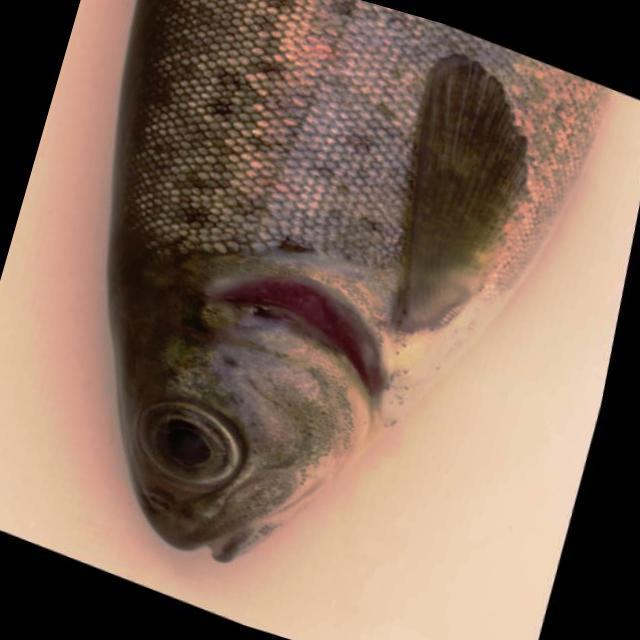Flavobacterium -Bacterial Gill Disease-: (107, 0, 602, 561)
